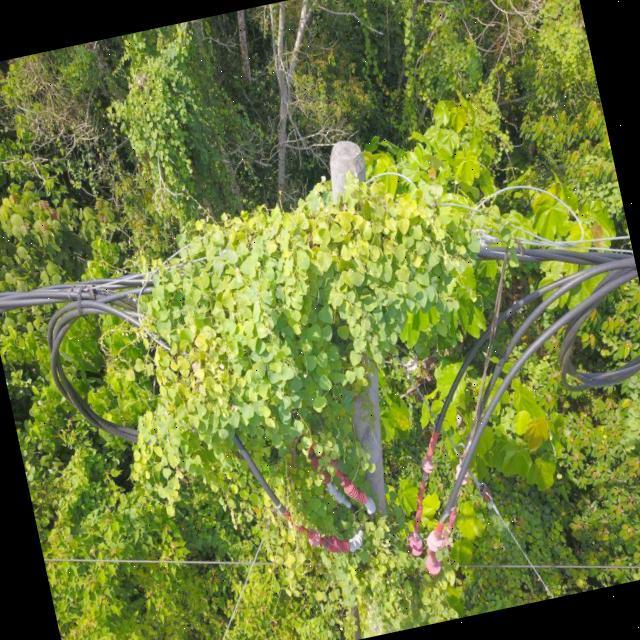critical vegetation: (91, 138, 550, 640)
